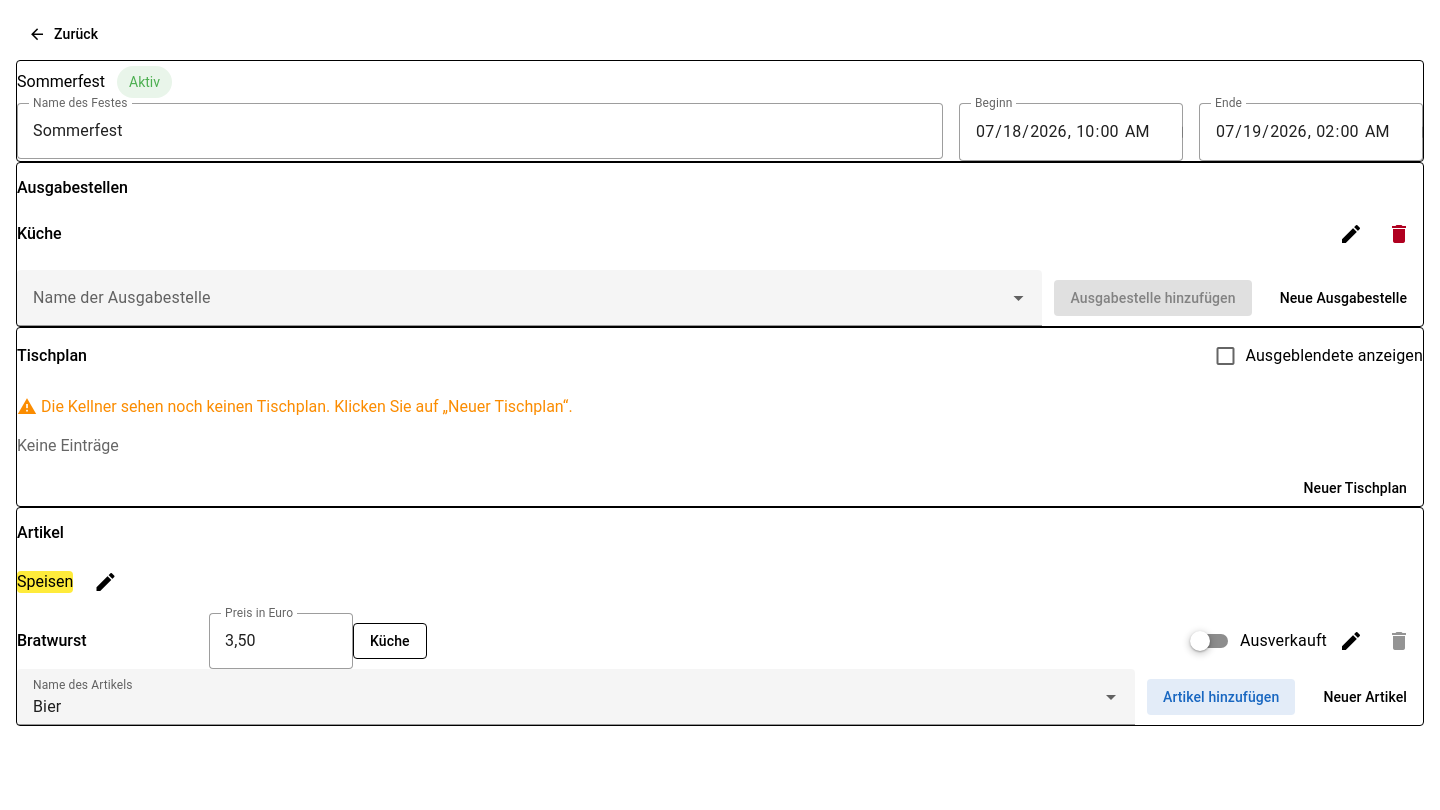
Test: the items of this festival › opens the placement dialog for the item the admin chose and clears the search
This screenshot has width=1440, height=810.
Expected: the element with test id "item-search" is shown, 17,669 -> 1135,725
Click the button with test id "add-item" at (1221, 697), box 1147,679 -> 1295,715
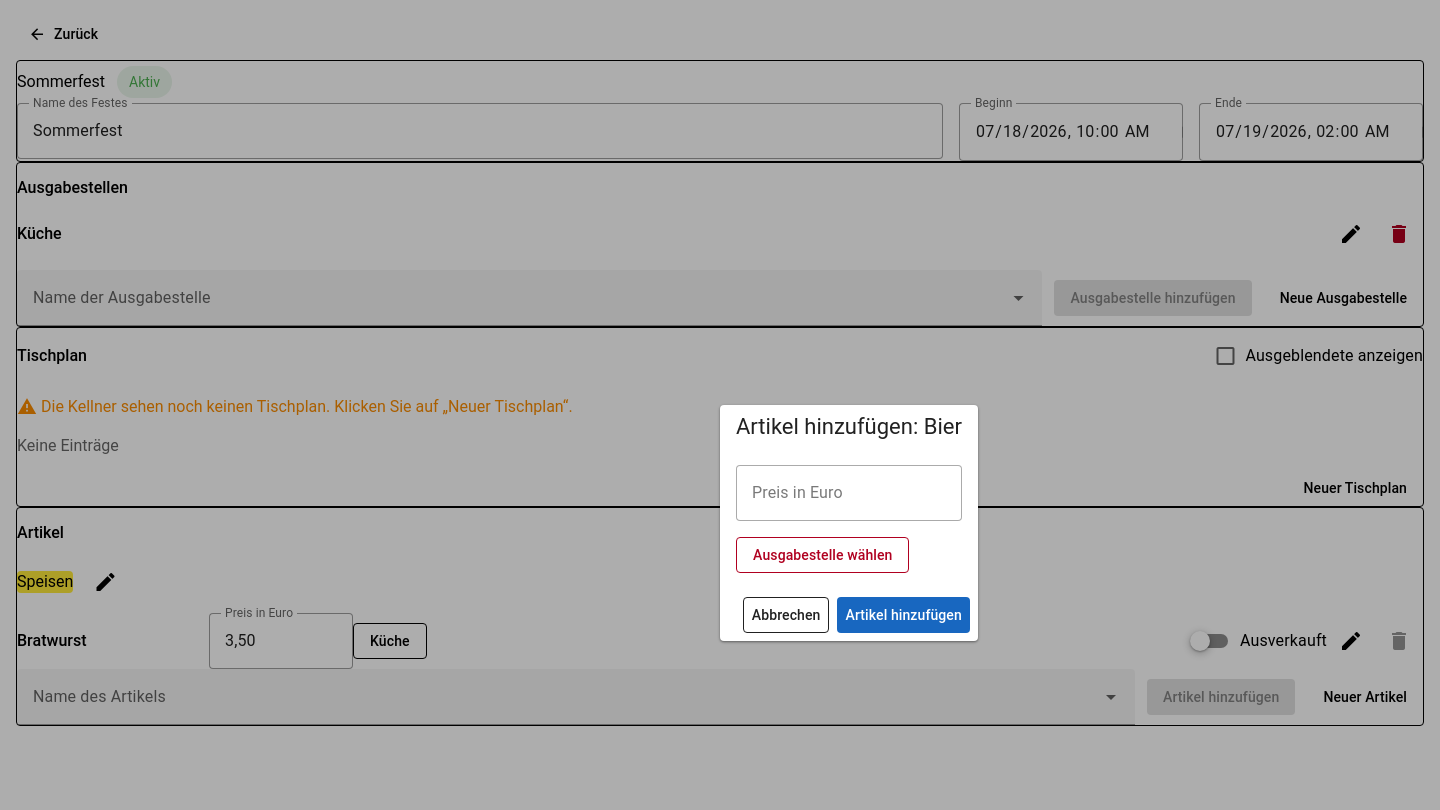
Expected: the text with test id "form-dialog-title" shows "Bier", 736,414 -> 962,439
